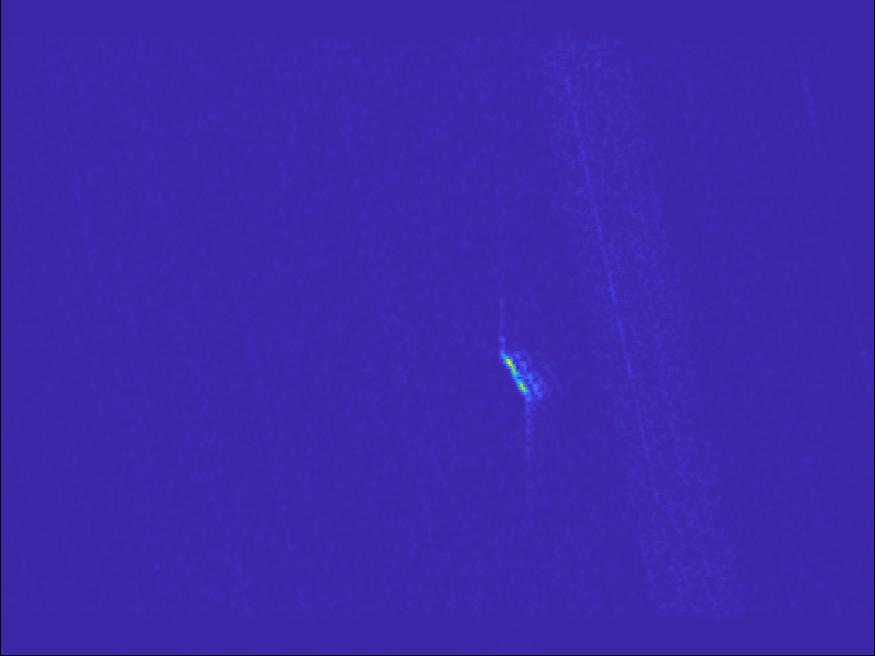Interference: (403, 392, 607, 565), (541, 290, 744, 357), (188, 387, 315, 435), (363, 307, 479, 353), (617, 377, 736, 421), (662, 526, 740, 578)
